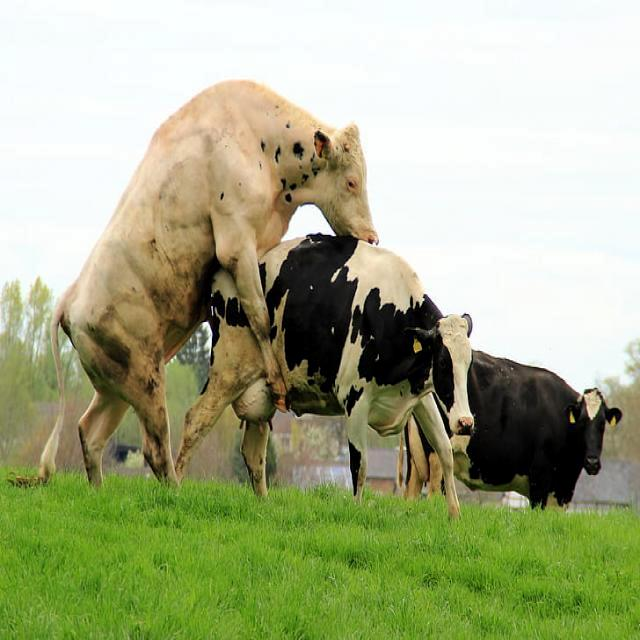COW: (52, 81, 378, 485), (260, 235, 474, 516), (461, 351, 620, 508), (176, 271, 274, 495)
